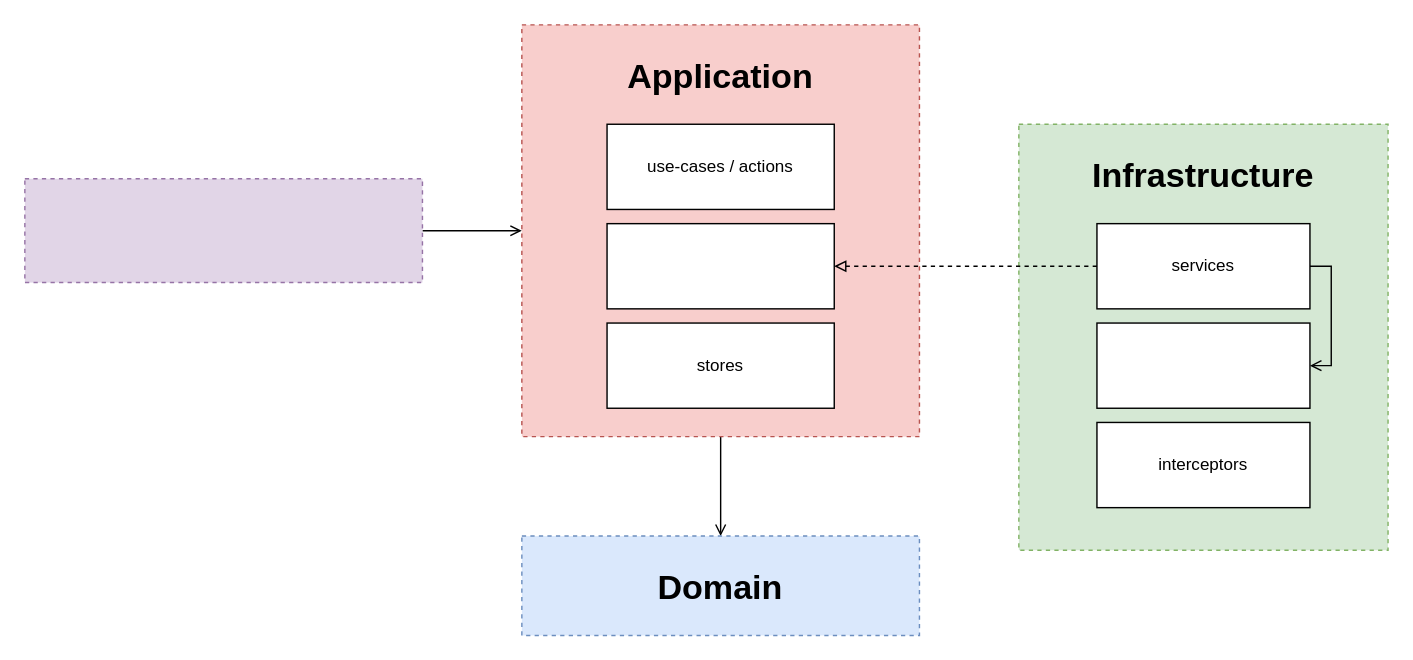
Some shapes in this 1413 by 660 pixel diagram are drawn without their labels. The shapes that lost their labels are listed below. From the top down, each one's centre as x and y in pixels, then its label:
the point at 222,230: Presentation
the point at 720,265: repositories (contracts)
the point at 1203,365: dtos
